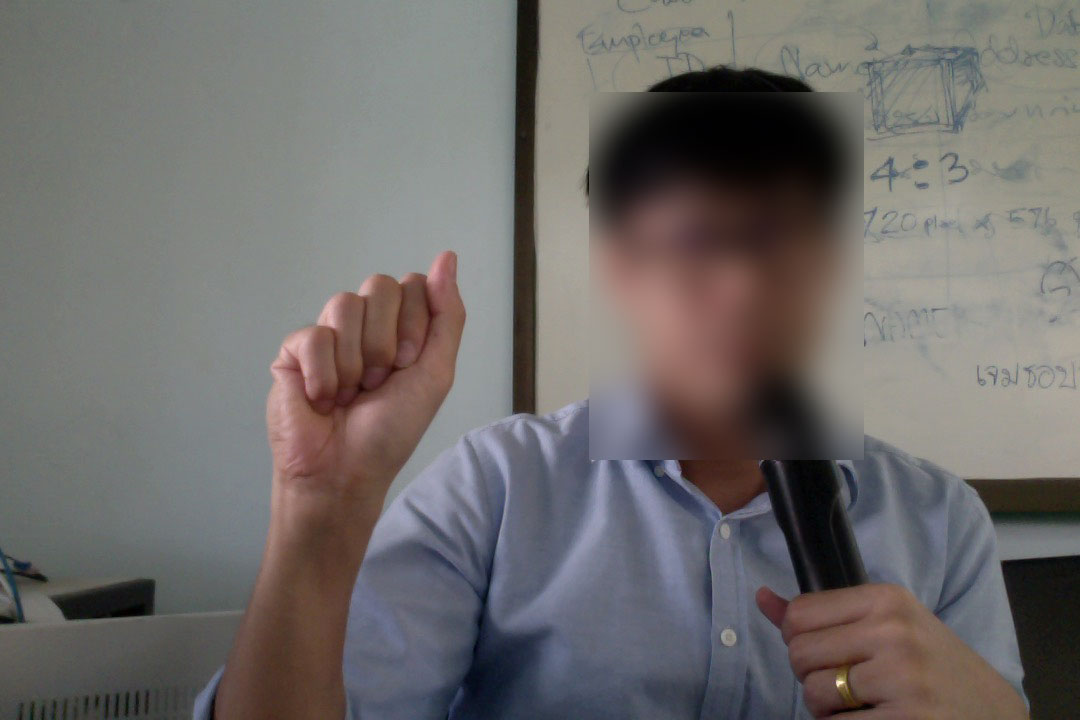or: (256, 245, 492, 517)
